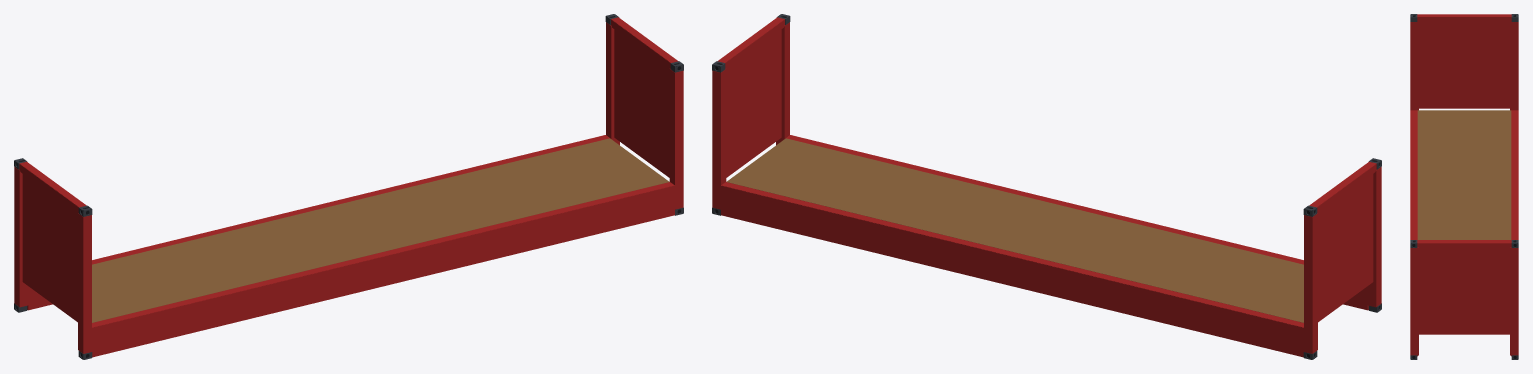
The model's file is iso_40ft_fr_45p3.obj.
The picture shows the model from 3 angles, left to right: view 1: azimuth 30°, elevation 25°; view 2: azimuth 150°, elevation 25°; view 3: azimuth 270°, elevation 25°; orthographic projection. The views are drawn at different scales.
Visible parts, largest first — view 1: 02_FlatRack_Heavy_Girders, 03_Marine_Wood_Floor, 01_ISO_Corner_Castings_Hollow3D; view 2: 02_FlatRack_Heavy_Girders, 03_Marine_Wood_Floor, 01_ISO_Corner_Castings_Hollow3D; view 3: 02_FlatRack_Heavy_Girders, 03_Marine_Wood_Floor, 01_ISO_Corner_Castings_Hollow3D.
Boxes of the visible parts, left/top/right/bottom form: 02_FlatRack_Heavy_Girders: left=14, top=17, right=683, bottom=357; 03_Marine_Wood_Floor: left=92, top=138, right=669, bottom=322; 01_ISO_Corner_Castings_Hollow3D: left=14, top=14, right=683, bottom=359; 02_FlatRack_Heavy_Girders: left=712, top=17, right=1381, bottom=357; 03_Marine_Wood_Floor: left=726, top=138, right=1303, bottom=322; 01_ISO_Corner_Castings_Hollow3D: left=712, top=14, right=1381, bottom=359; 02_FlatRack_Heavy_Girders: left=1410, top=14, right=1518, bottom=356; 03_Marine_Wood_Floor: left=1417, top=110, right=1511, bottom=239; 01_ISO_Corner_Castings_Hollow3D: left=1410, top=14, right=1518, bottom=359.
Size of the model in its own units: 12.19 by 2.9 by 2.44.
